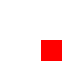square: (41, 40, 61, 60)
